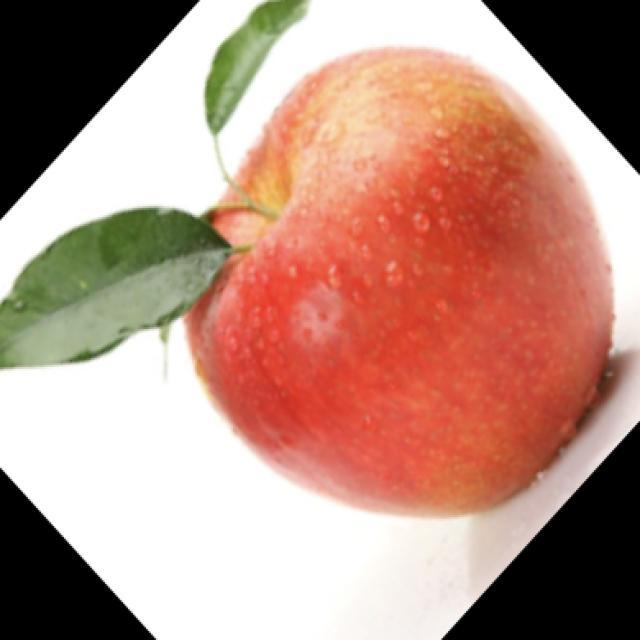Fresh Apple: (183, 50, 617, 487)
